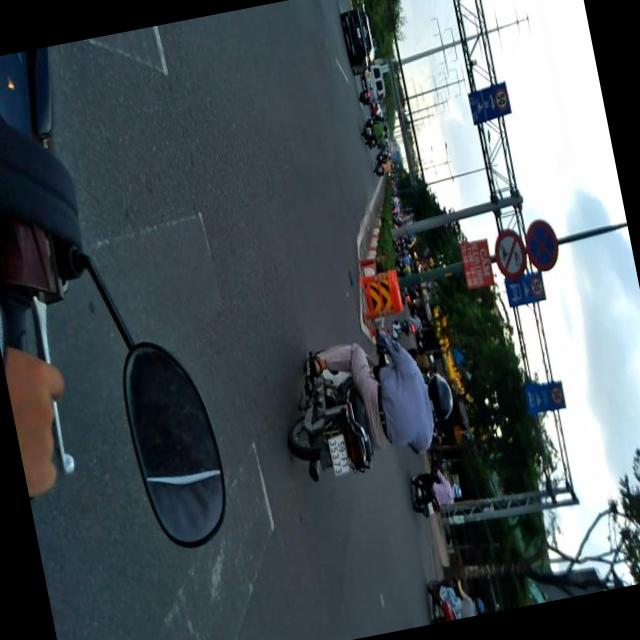P-105: (489, 227, 532, 284)
P-130: (518, 215, 564, 275)
